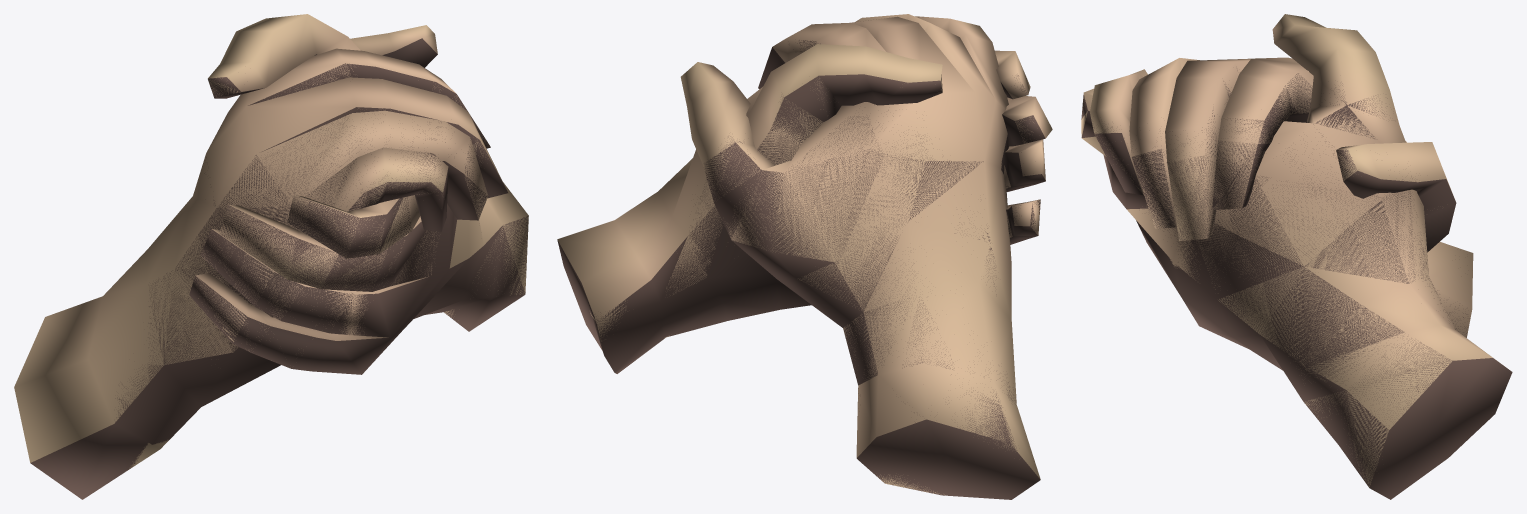
The picture shows the model from 3 angles, left to right: view 1: azimuth 30°, elevation 25°; view 2: azimuth 150°, elevation 25°; view 3: azimuth 270°, elevation 25°; orthographic projection. The views are drawn at different scales.
Parts seen in each view (by area): view 1: alt6.047; view 2: alt6.047; view 3: alt6.047.
Boxes of the visible parts, x1,y1,x2,y2 form: alt6.047: [14, 14, 528, 499]; alt6.047: [557, 14, 1052, 499]; alt6.047: [1081, 14, 1512, 499].
Size of the model in its own units: 0.5 by 0.4118 by 0.3882.
